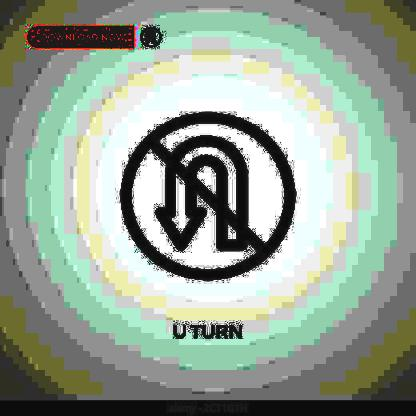No U-turn: (118, 107, 301, 287)
